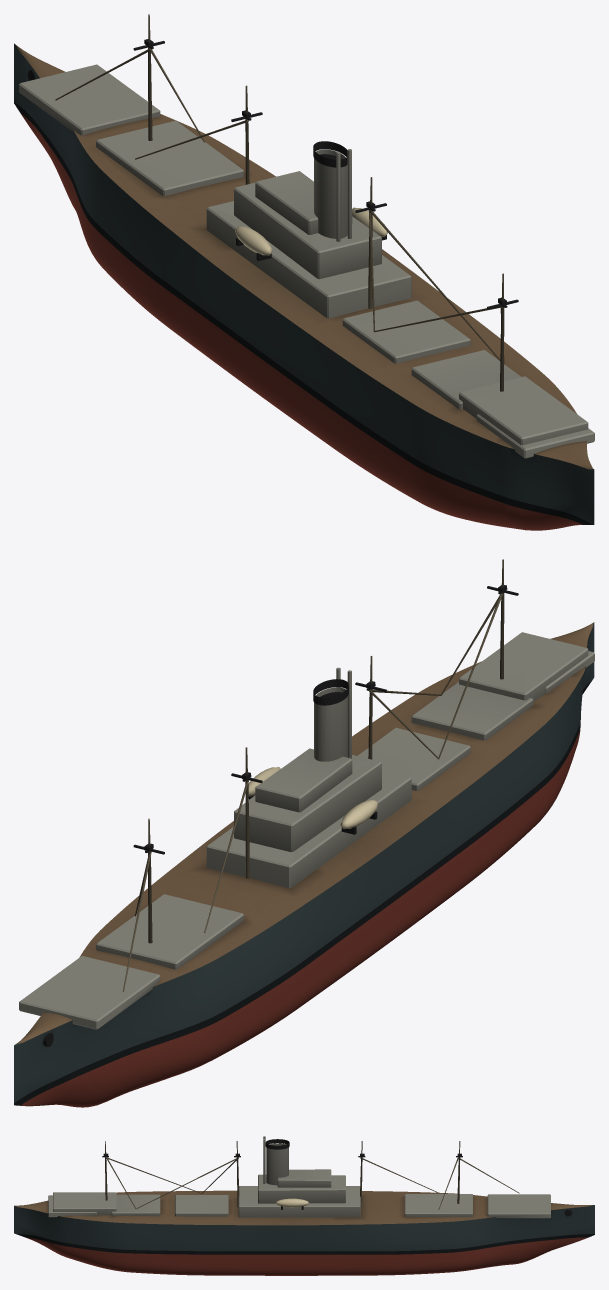
The model's file is ss-hartington.glb.
The picture shows the model from 3 angles, top to bottom: view 1: azimuth 30°, elevation 25°; view 2: azimuth 150°, elevation 25°; view 3: azimuth 270°, elevation 25°; orthographic projection. The views are drawn at different scales.
Parts seen in each view (by area): view 1: ss-hartington; view 2: ss-hartington; view 3: ss-hartington.
Boxes of the visible parts, x1,y1,x2,y2 form: ss-hartington: (14,14,594,530); ss-hartington: (14,559,594,1107); ss-hartington: (14,1136,594,1275).
Size of the model in its own units: 16.9 by 28.32 by 119.
